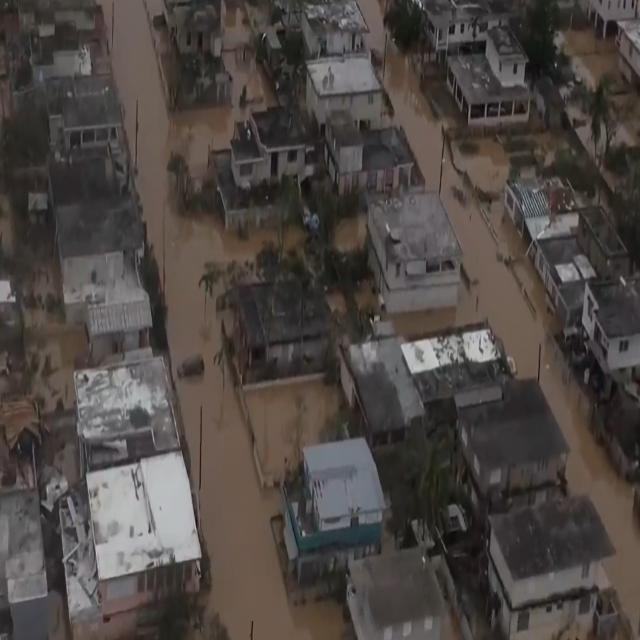flood: (361, 0, 640, 637), (103, 0, 344, 640), (555, 30, 640, 147), (25, 264, 74, 412), (452, 138, 510, 191)
house: (66, 322, 202, 634), (52, 146, 157, 348), (487, 496, 615, 634), (283, 430, 388, 588), (444, 371, 572, 493), (370, 182, 466, 333), (230, 272, 334, 388), (343, 552, 457, 640), (228, 102, 325, 198), (54, 68, 128, 182), (449, 38, 533, 135), (304, 56, 383, 134), (586, 270, 640, 375), (160, 0, 229, 67), (529, 234, 593, 302), (425, 0, 483, 62), (617, 12, 640, 99)
